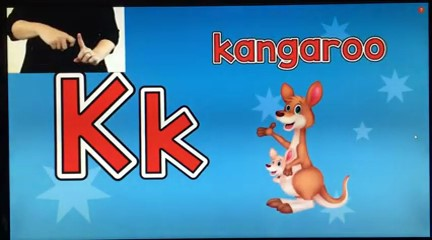K: (41, 21, 101, 70)
